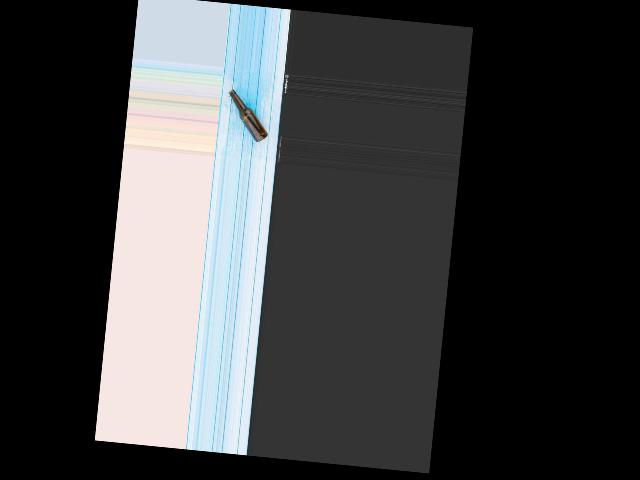beer: (224, 89, 272, 143)
